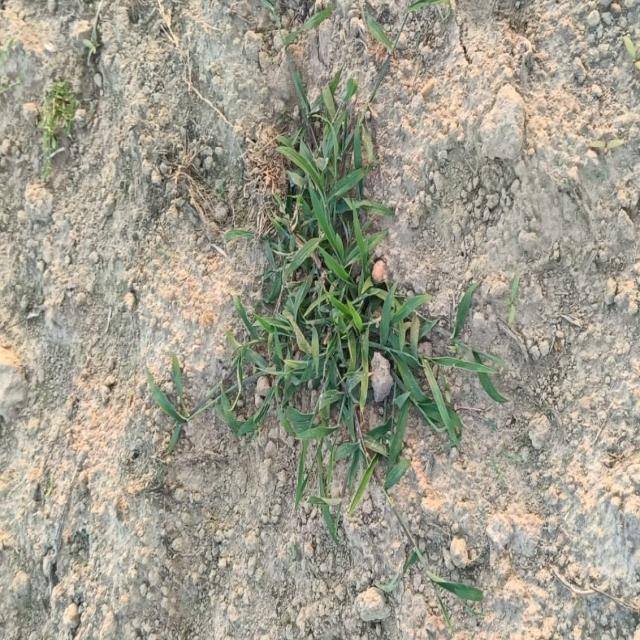weed: (146, 60, 504, 546)
